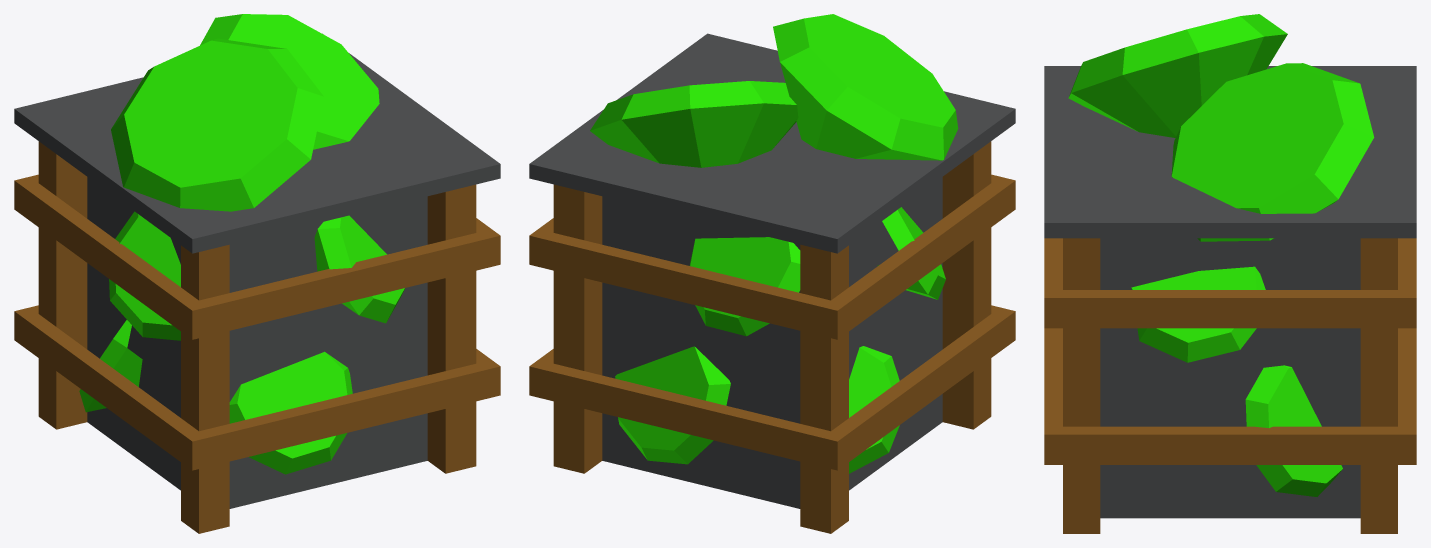
The model's file is GemWall (4).fbx.
3 views of the same model, side by side, from view 1: azimuth 30°, elevation 25°; view 2: azimuth 150°, elevation 25°; view 3: azimuth 270°, elevation 25° (orthographic). The views are drawn at different scales.
Visible parts, largest first — view 1: Wall.001, GemWall; view 2: Wall.001, GemWall; view 3: Wall.001, GemWall.
Boxes of the visible parts, box(x1,y1,x2,y2) form: Wall.001: box(14, 33, 500, 533); GemWall: box(79, 14, 404, 474); Wall.001: box(529, 33, 1015, 533); GemWall: box(590, 14, 958, 473); Wall.001: box(1044, 66, 1416, 533); GemWall: box(1068, 14, 1374, 496).
Bounding box in the file's own units: 222 × 282 × 222.
